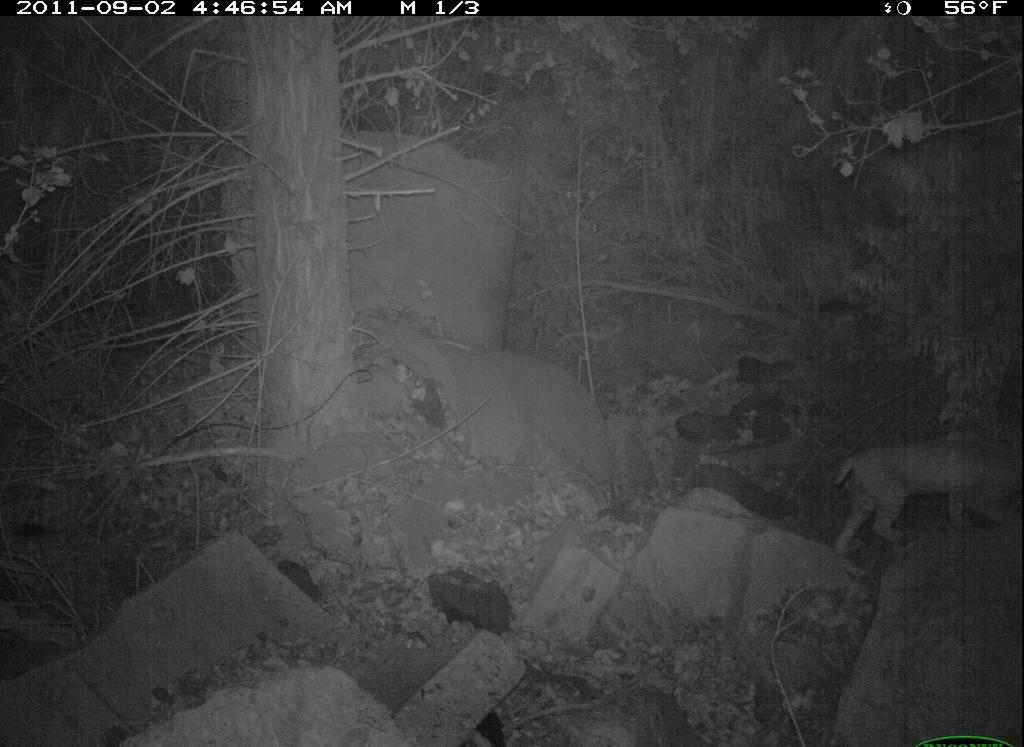bobcat: (830, 418, 1023, 588)
